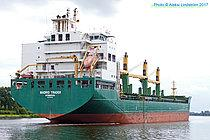Ship: (7, 6, 196, 128)
